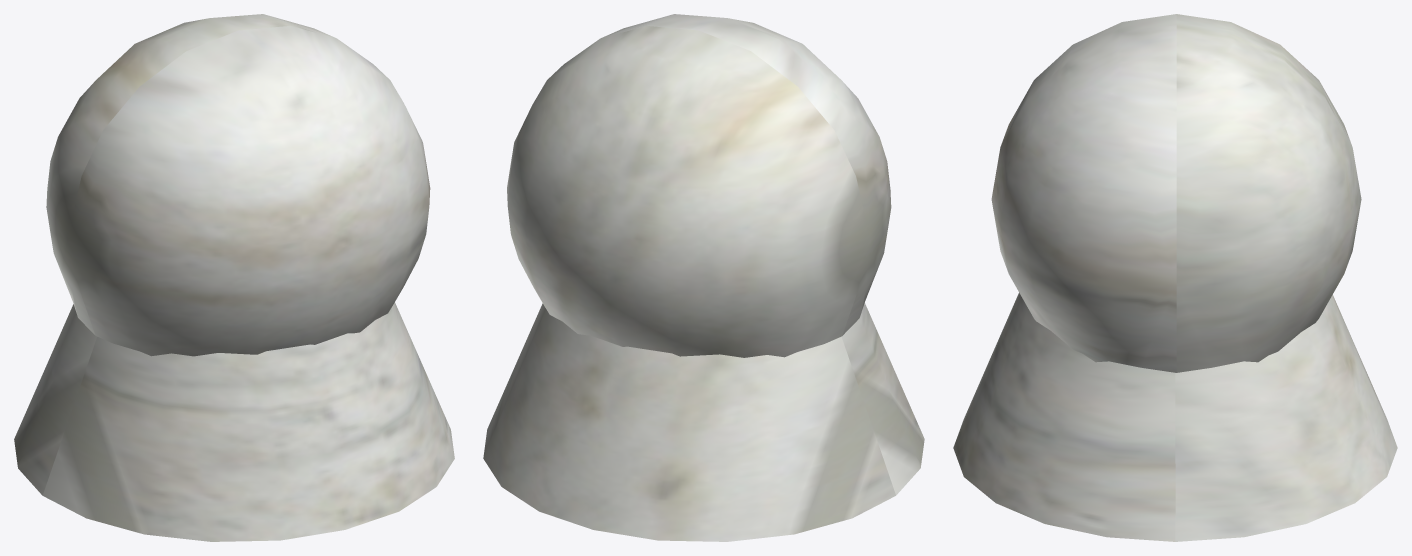
File: CBaseSph.FBX
3 views of the same model, side by side, from view 1: azimuth 30°, elevation 25°; view 2: azimuth 150°, elevation 25°; view 3: azimuth 270°, elevation 25° (orthographic).
Visible parts, largest first — view 1: Object009; view 2: Object009; view 3: Object009.
Boxes of the visible parts, x1,y1,x2,y2 form: Object009: (14, 14, 454, 541); Object009: (483, 14, 924, 541); Object009: (953, 14, 1397, 541).
Bounding box in the file's own units: 26.73 × 27.76 × 26.7.
Materials: 1 (1 with a texture image).
